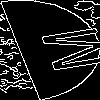M: (25, 25, 100, 76)
